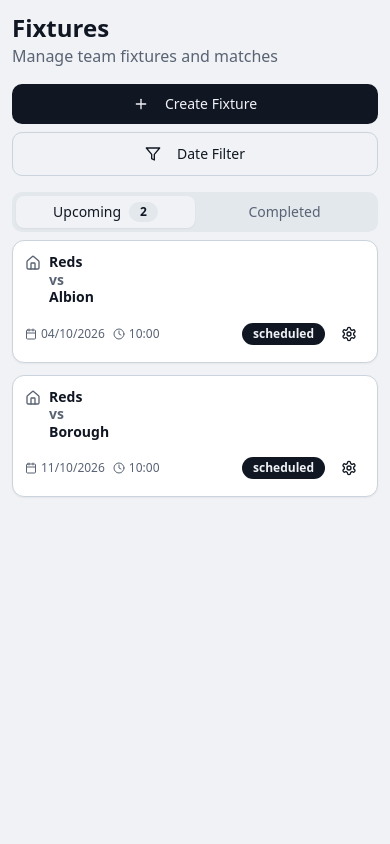
it: Fixtures delete confirmation (BUG-025) › Cancel closes the dialog without deleting
Check: the text "Albion" is shown, box [49,287,94,306]
Step 1. Press Enter in the button without text in the row of "04/10/2026", box [333,318,365,350]
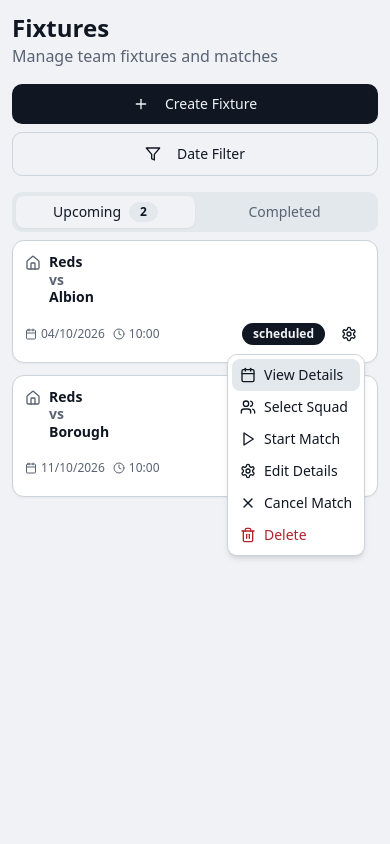
Step 2. Click the menu item "Delete" → (273, 534), box [240,525,307,544]
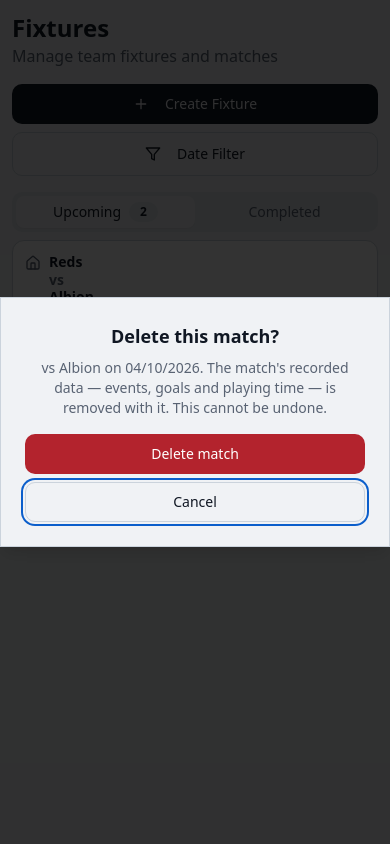
Step 3. Click the button "Cancel" → (195, 502), box [25,482,365,522]
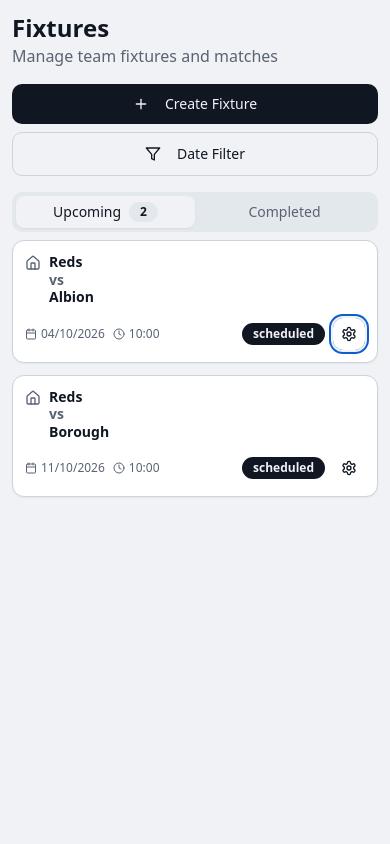
Check: the dialog is gone
